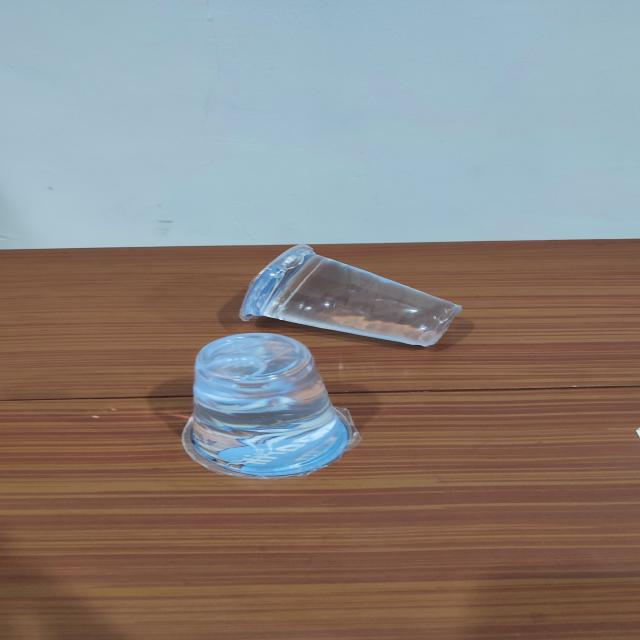air gelas: (179, 328, 369, 487), (221, 242, 478, 348)
